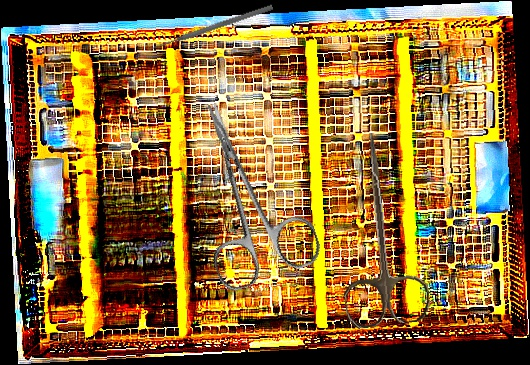Iris Scissors: (164, 85, 326, 295), (325, 128, 432, 330)
Pusher: (147, 2, 274, 54)
